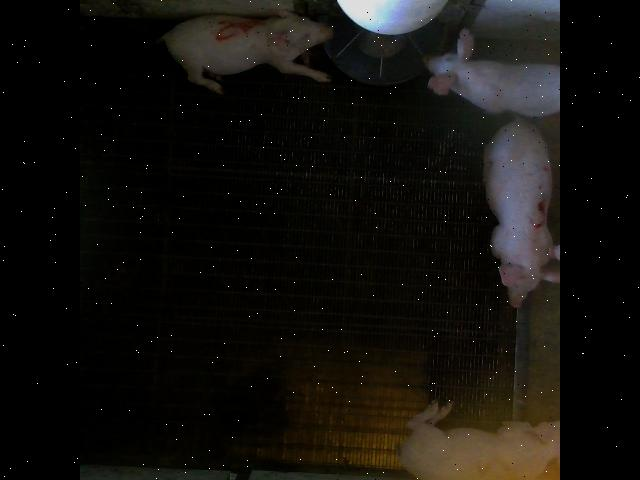pig-2: (399, 399, 558, 480)
pig-3: (484, 116, 559, 306)
pig-5: (156, 9, 332, 94)
